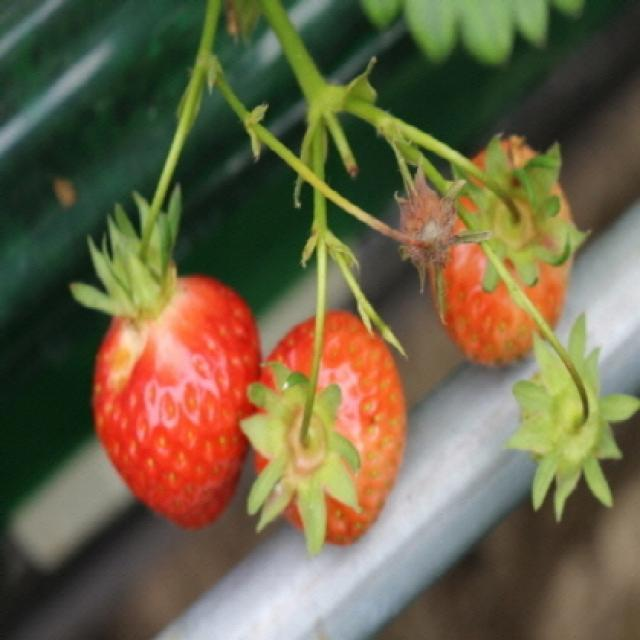Gray Mold: (386, 160, 487, 306)
